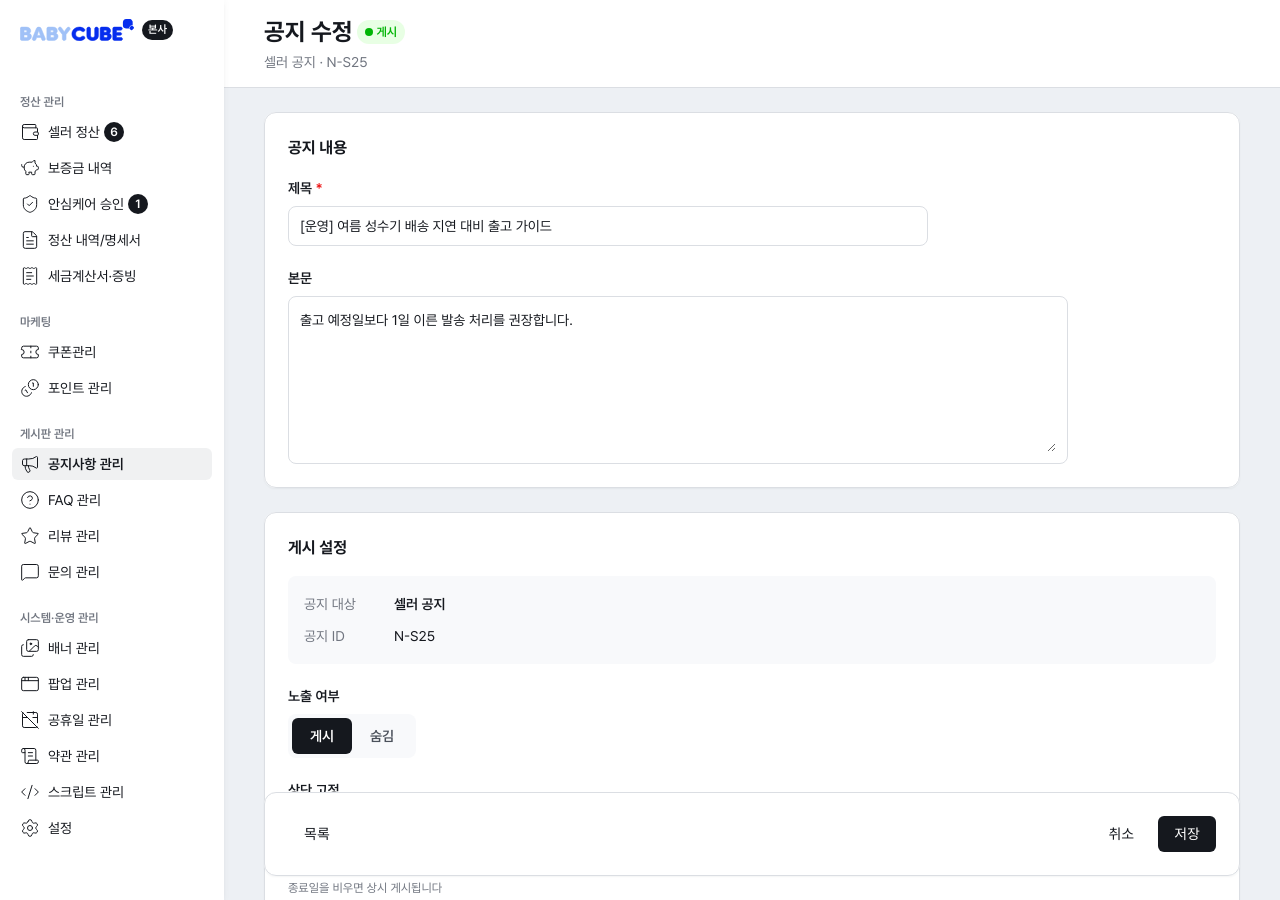
Test case: NoticeFormPage (공지 등록/수정) › 수정 — /notices/{id} › [저장] — 알림 「공지가 수정되었습니다.」 + 보던 탭 목록으로
This screenshot has width=1280, height=900.
(page scrolled)
Click the button "저장" at (1187, 834), box 1158,816 -> 1216,852
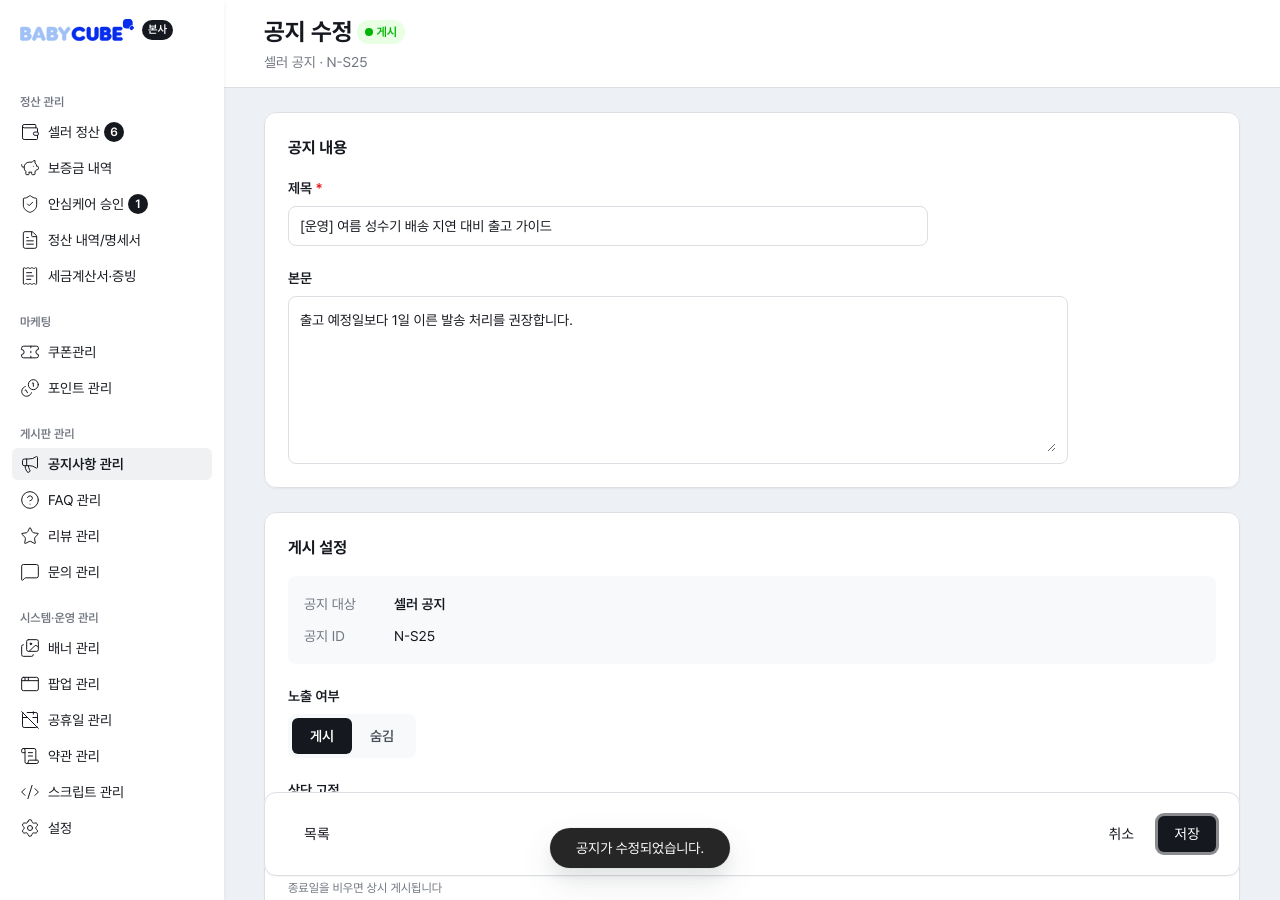
expect the text "공지가 수정되었습니다." is shown: met, box 550,828 -> 730,868
